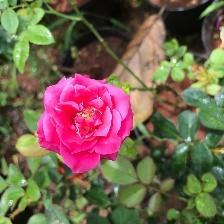rose: (36, 72, 136, 176)
